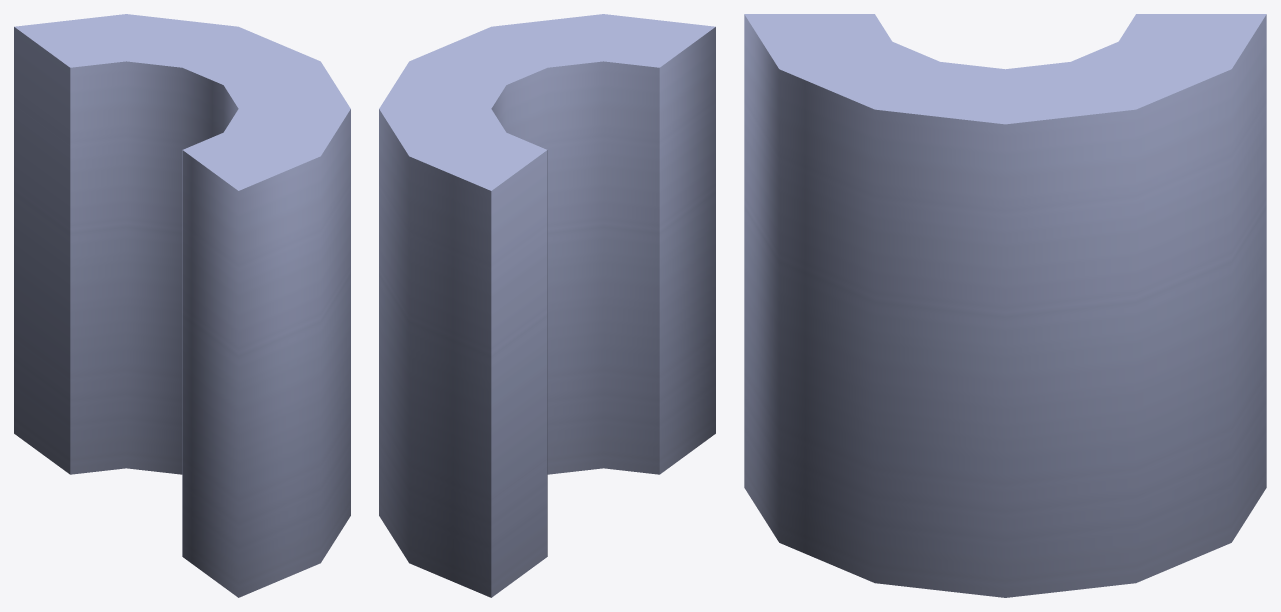
Rendered from shape-hollow-cylinder-half.fbx.
3 renders of one model, left to right at view 1: azimuth 30°, elevation 25°; view 2: azimuth 150°, elevation 25°; view 3: azimuth 270°, elevation 25°, orthographic. The views are drawn at different scales.
Visible parts, largest first — view 1: shape-hollow-cylinder-half; view 2: shape-hollow-cylinder-half; view 3: shape-hollow-cylinder-half.
Boxes of the visible parts, bbox=[...] form: shape-hollow-cylinder-half: bbox=[14, 14, 350, 597]; shape-hollow-cylinder-half: bbox=[379, 14, 715, 597]; shape-hollow-cylinder-half: bbox=[744, 14, 1266, 597].
Bounding box in the file's own units: 50 × 100 × 100.
